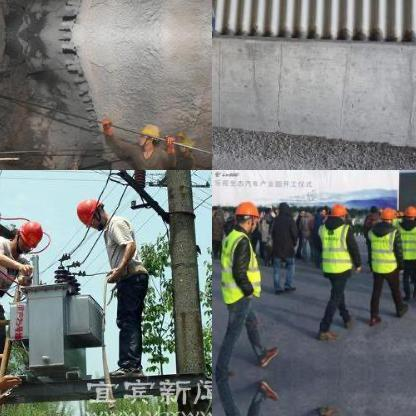Helmet: (12, 216, 46, 252), (70, 195, 107, 227), (230, 200, 260, 234), (138, 121, 160, 150), (326, 204, 348, 222), (178, 136, 194, 152), (380, 206, 394, 224), (403, 204, 415, 219), (172, 128, 184, 142), (411, 201, 415, 217)
